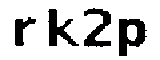2: (82, 6, 113, 49)
k: (46, 7, 78, 48)
p: (116, 16, 149, 60)
r: (12, 15, 39, 52)
